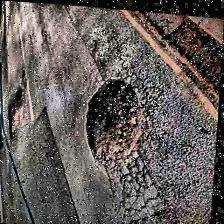pothole: (82, 71, 152, 162)
